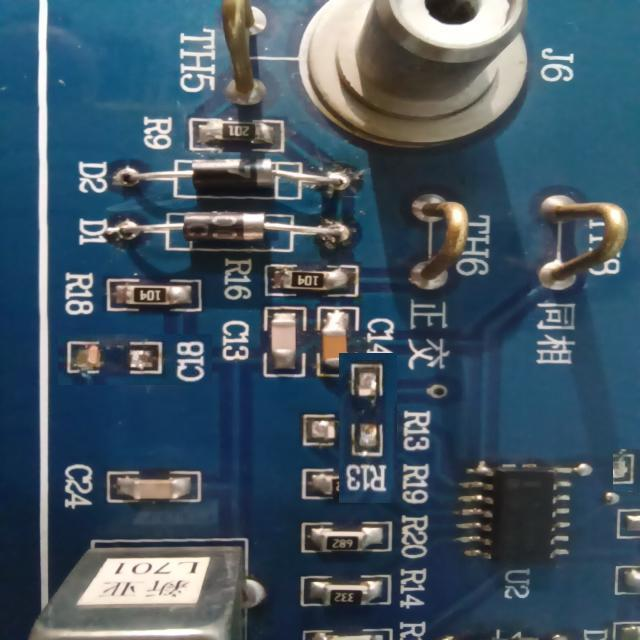miss_welding: (315, 376, 420, 481), (58, 334, 212, 385), (612, 448, 640, 491)
